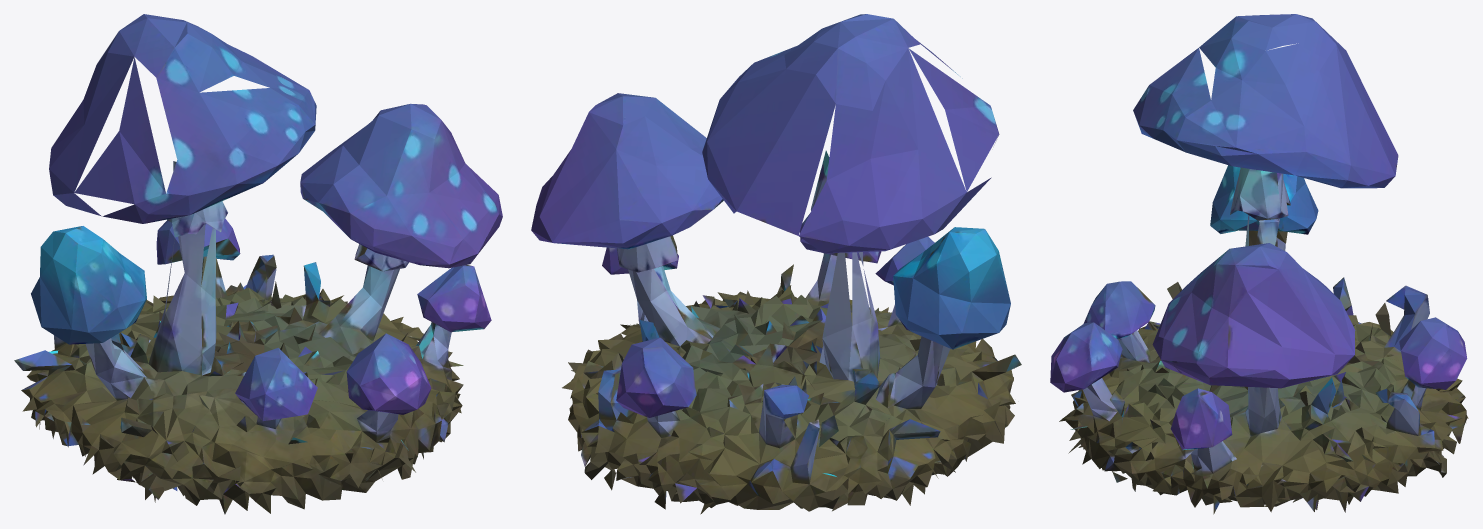
Rendered from glow_mushrooms.glb.
The picture shows the model from 3 angles, left to right: view 1: azimuth 30°, elevation 25°; view 2: azimuth 150°, elevation 25°; view 3: azimuth 270°, elevation 25°; orthographic projection. The views are drawn at different scales.
Visible parts, largest first — view 1: geometry_0; view 2: geometry_0; view 3: geometry_0.
Part boxes in pixels (bbox=[...]): geometry_0: bbox=[14, 14, 502, 514]; geometry_0: bbox=[531, 14, 1021, 514]; geometry_0: bbox=[1050, 14, 1468, 514].
Size of the model in its own units: 0.8 by 0.7379 by 0.709.
Materials: 1 (1 with a texture image).
